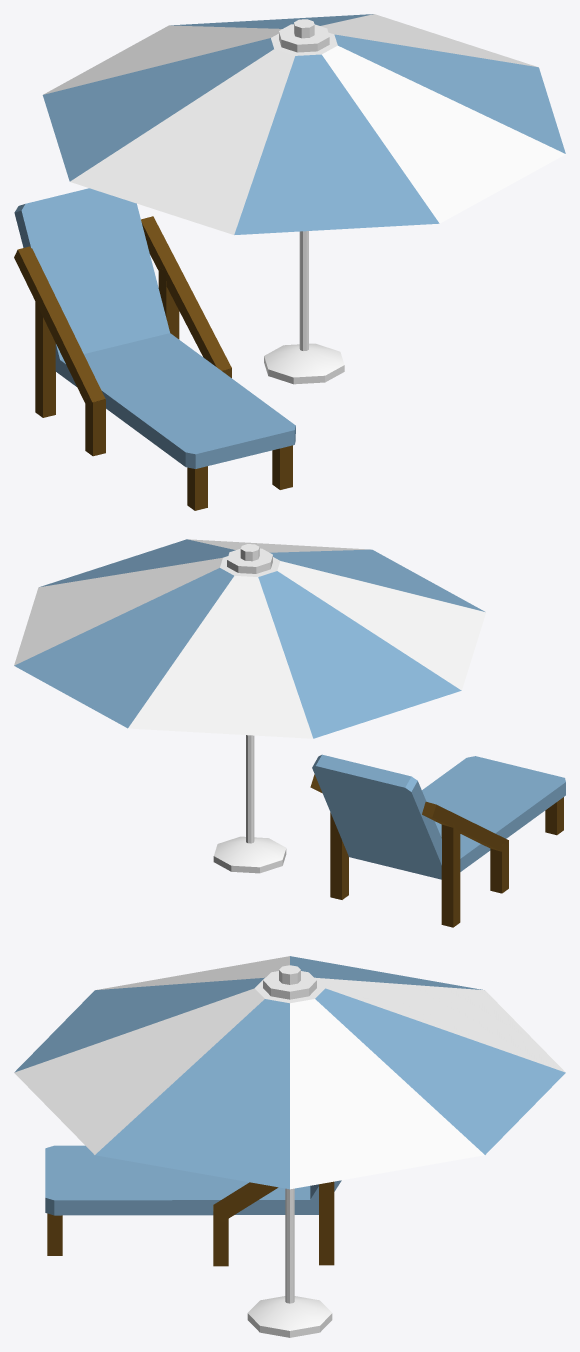
The model's file is Silla_Sombrilla_1.fbx.
The picture shows the model from 3 angles, top to bottom: view 1: azimuth 30°, elevation 25°; view 2: azimuth 150°, elevation 25°; view 3: azimuth 270°, elevation 25°; orthographic projection. The views are drawn at different scales.
Parts seen in each view (by area): view 1: pCylinder4, pCube2, pCube1, pCube4 (×2), pCube3 (×2), pCylinder1, pCylinder2, pCube5, pCube6, pCube7; view 2: pCylinder4, pCube1, pCube2, pCube3 (×2), pCylinder1, pCube4, pCylinder2, pCube5, pCube6; view 3: pCylinder4, pCube2, pCylinder1, pCube3, pCube4, pCylinder2, pCube5, pCube7.
Boxes of the visible parts, bbox=[...] form: pCylinder4: bbox=[42, 14, 565, 235]; pCube2: bbox=[56, 333, 295, 468]; pCube1: bbox=[14, 188, 169, 371]; pCube4 (×2): bbox=[14, 216, 231, 405]; pCube3 (×2): bbox=[35, 267, 179, 417]; pCylinder1: bbox=[264, 343, 344, 384]; pCylinder2: bbox=[299, 231, 308, 350]; pCube5: bbox=[85, 397, 105, 456]; pCube6: bbox=[187, 466, 207, 510]; pCube7: bbox=[272, 445, 292, 489]; pCylinder4: bbox=[14, 539, 485, 738]; pCube1: bbox=[312, 754, 441, 879]; pCube2: bbox=[348, 756, 565, 879]; pCube3 (×2): bbox=[330, 812, 460, 927]; pCylinder1: bbox=[213, 836, 286, 873]; pCube4: bbox=[422, 801, 508, 851]; pCylinder2: bbox=[246, 735, 254, 843]; pCube5: bbox=[490, 840, 508, 893]; pCube6: bbox=[545, 797, 563, 835]; pCylinder4: bbox=[14, 956, 565, 1189]; pCube2: bbox=[45, 1145, 318, 1215]; pCylinder1: bbox=[247, 1296, 332, 1337]; pCube3: bbox=[319, 1181, 334, 1265]; pCube4: bbox=[213, 1182, 278, 1222]; pCylinder2: bbox=[285, 1188, 294, 1303]; pCube5: bbox=[213, 1205, 228, 1266]; pCube7: bbox=[47, 1213, 62, 1255].
Bounding box in the file's own units: 16.09 × 10.96 × 15.6.
